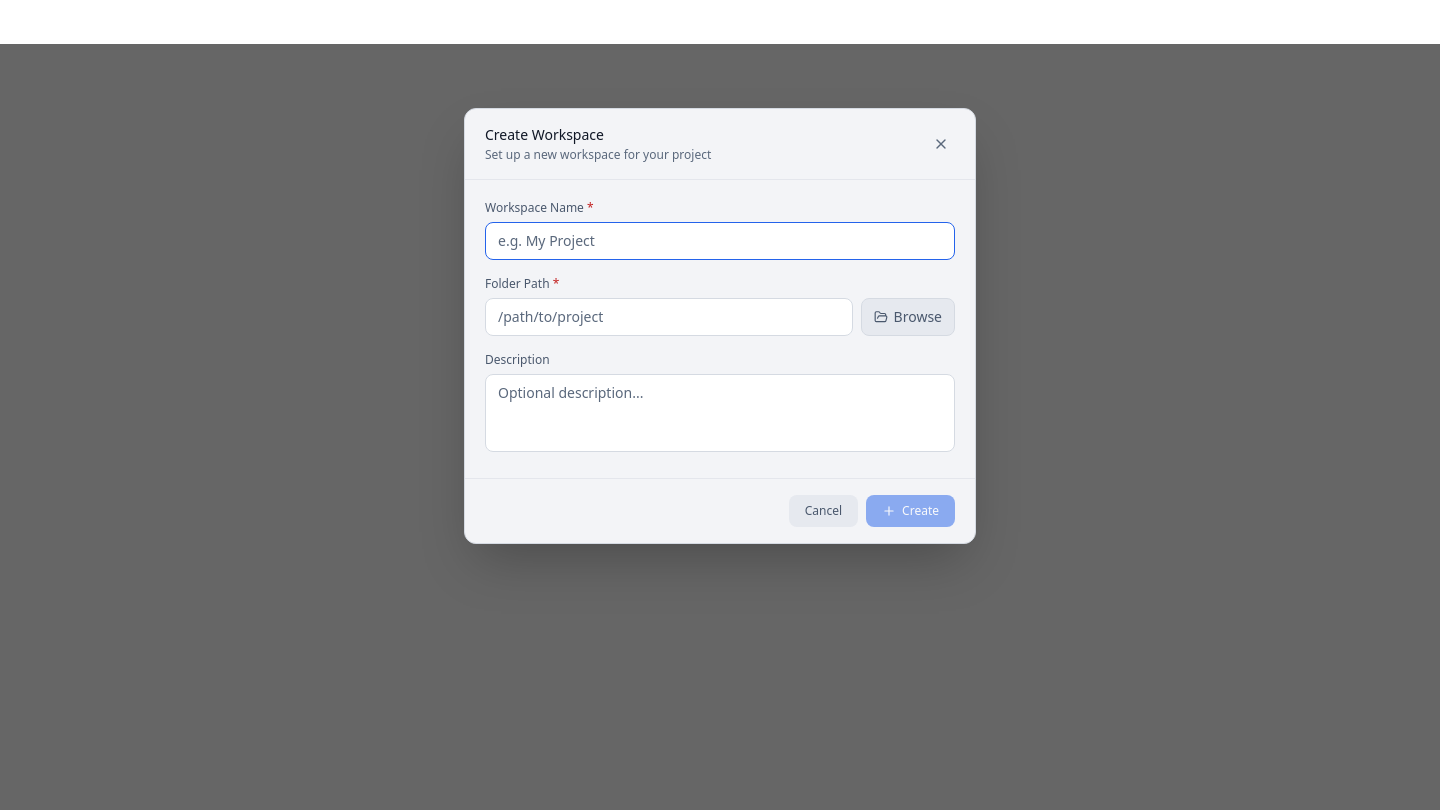
Scenario: CreateWorkspaceModal › fills folder path and name from the bridge directory dialog
Click the button "Browse" at (908,317), box [861, 298, 955, 336]
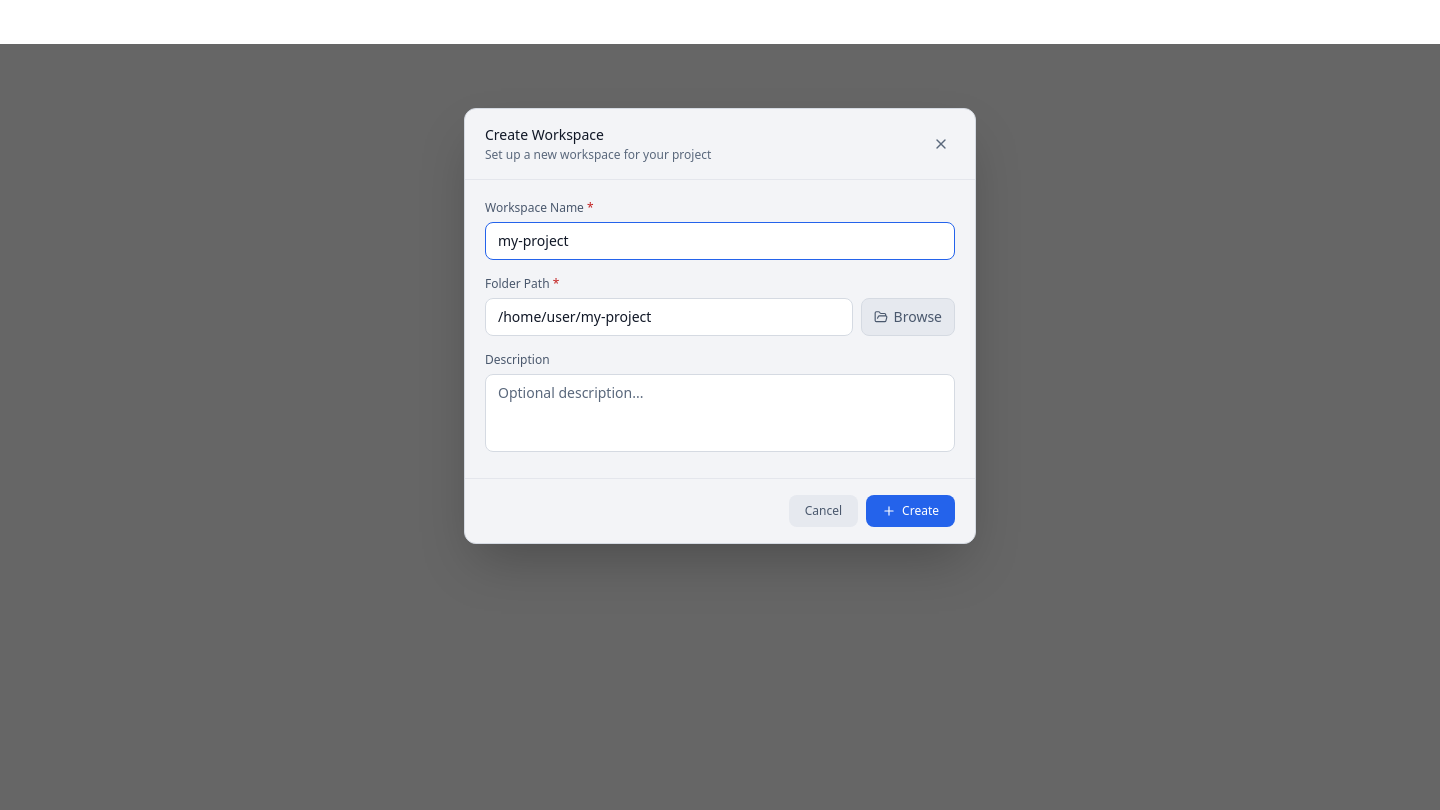
Now the field with placeholder "/path/to/project" below "Folder Path" holds "/home/user/my-project", box [485, 298, 853, 336]
Now the field with placeholder "e.g. My Project" below "Workspace Name" holds "my-project", box [485, 222, 955, 260]
